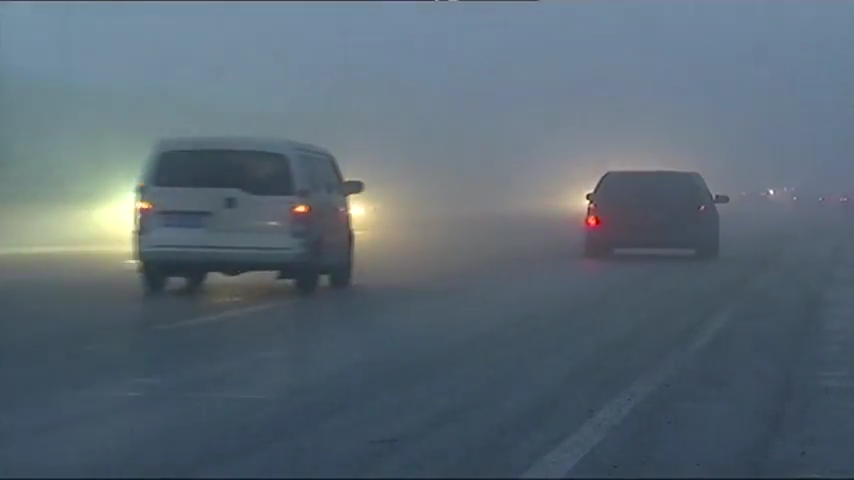car: (131, 133, 368, 289), (580, 169, 730, 257)
